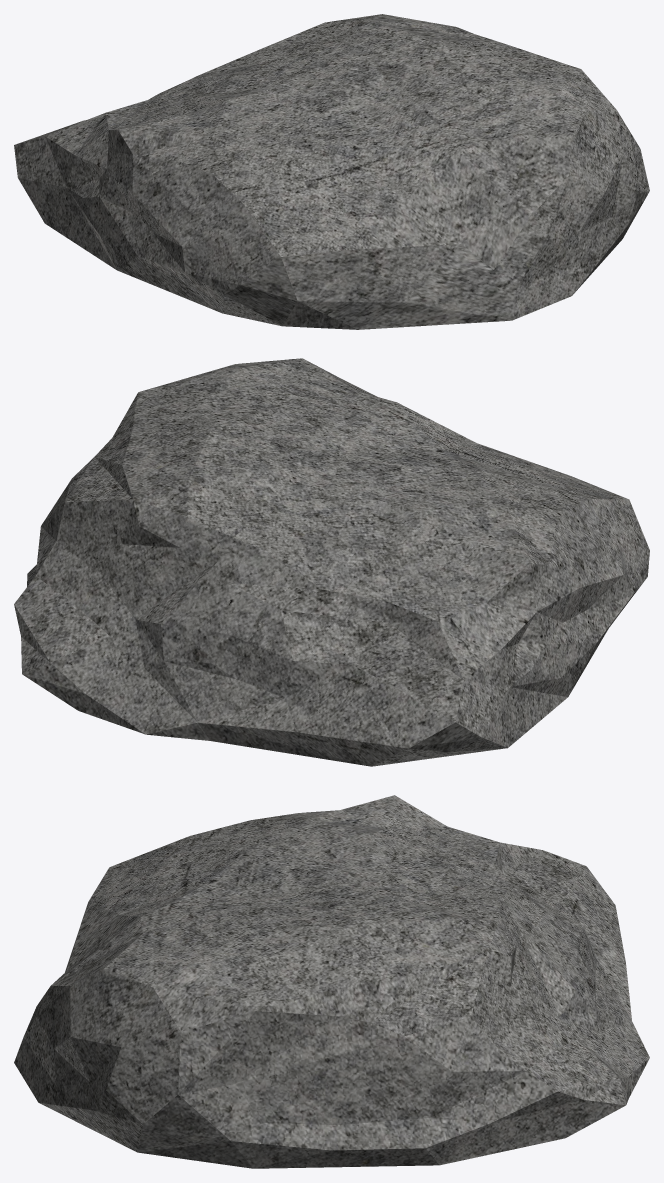
The model's file is roccia_1.fbx.
3 views of the same model, one above another, from view 1: azimuth 30°, elevation 25°; view 2: azimuth 150°, elevation 25°; view 3: azimuth 270°, elevation 25° (orthographic). The views are drawn at different scales.
Visible parts, largest first — view 1: roccia_1; view 2: roccia_1; view 3: roccia_1.
Part boxes in pixels (box(x1,y1,x2,y2)): roccia_1: box(14, 14, 649, 329); roccia_1: box(14, 358, 649, 766); roccia_1: box(14, 795, 649, 1168).
Size of the model in its own units: 156 by 50.79 by 165.
